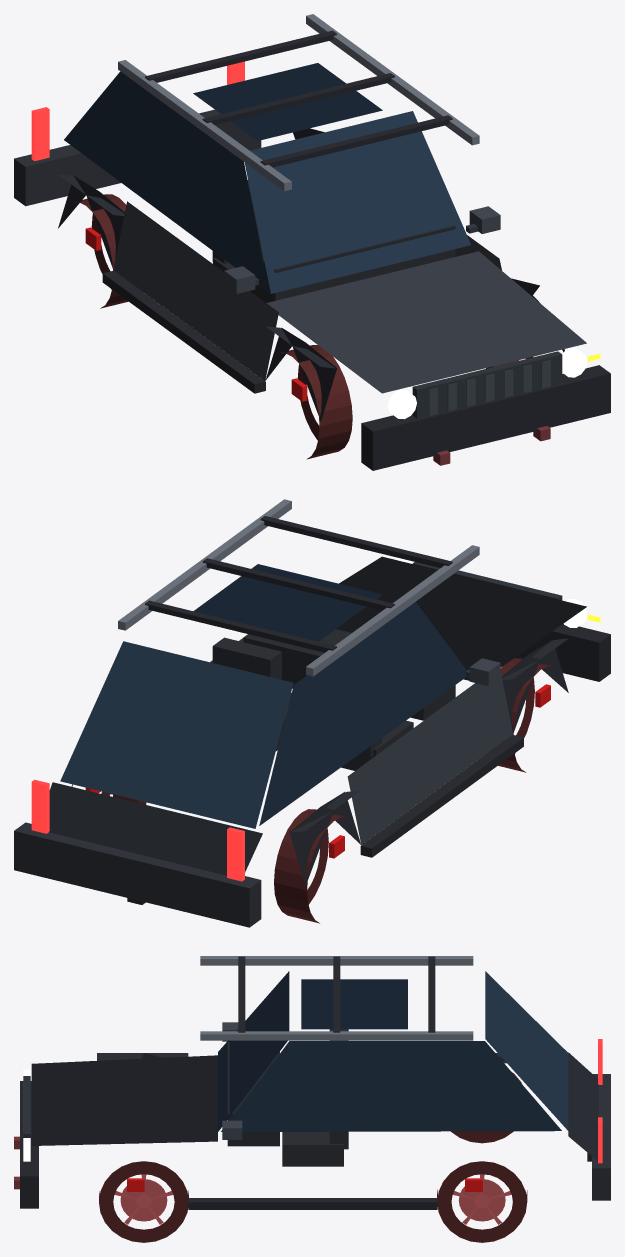
Rendered from overland_explorer_suv_lod0.glb.
3 renders of one model, top to bottom at view 1: azimuth 30°, elevation 25°; view 2: azimuth 150°, elevation 25°; view 3: azimuth 270°, elevation 25°, orthographic. The views are drawn at different scales.
Parts seen in each view (by area): view 1: Chassis, Glass, Wheel_FL, Interior, Wheel_RL, BrakeLights, Headlights; view 2: Chassis, Glass, Interior, Wheel_RL, BrakeLights, Wheel_FL; view 3: Glass, Chassis, Wheel_RR, Wheel_FR, Interior, Wheel_RL, BrakeLights.
Part boxes in pixels (x1,y1,x2,y2): Chassis: (14,14,610,470); Glass: (64,63,470,293); Wheel_FL: (279,345,352,459); Interior: (212,180,455,302); Wheel_RL: (73,194,128,308); BrakeLights: (31,61,244,161); Headlights: (388,348,587,419); Chassis: (14,499,610,927); Glass: (60,564,466,828); Interior: (212,629,455,770); Wheel_RL: (274,809,347,923); BrakeLights: (31,779,244,881); Wheel_FL: (498,658,552,772); Glass: (218,971,568,1131); Chassis: (14,956,610,1209); Wheel_RR: (437,1161,527,1242); Wheel_FR: (99,1161,188,1242); Interior: (227,1029,348,1166); Wheel_RL: (451,1072,521,1143); BrakeLights: (598,1039,602,1163).
Bounding box in the file's own units: 2.15 × 1.85 × 5.03.
